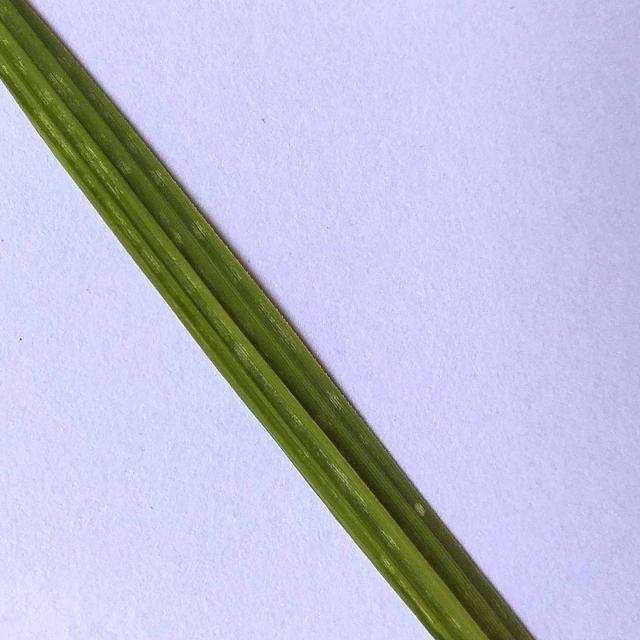Blast: (412, 501, 427, 520)
